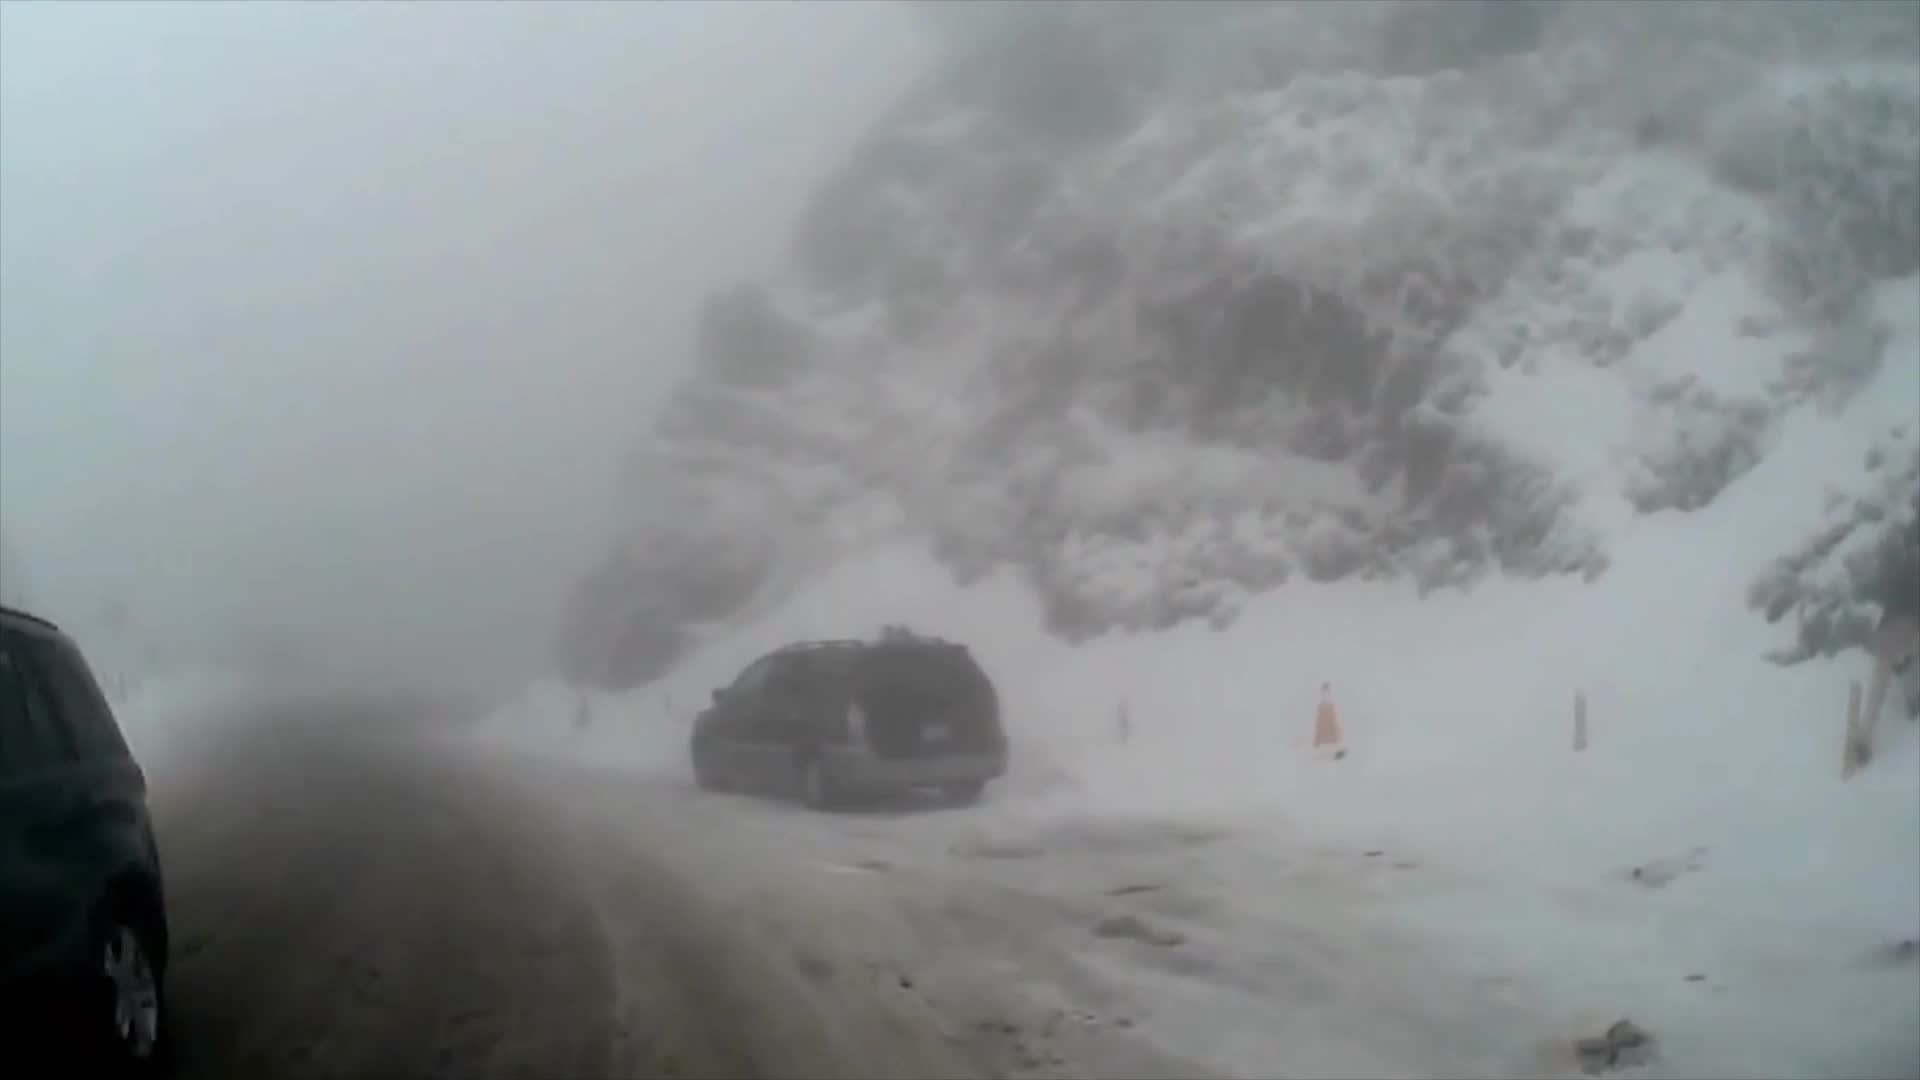vehicle: (0, 597, 173, 1079), (687, 637, 1006, 808)
